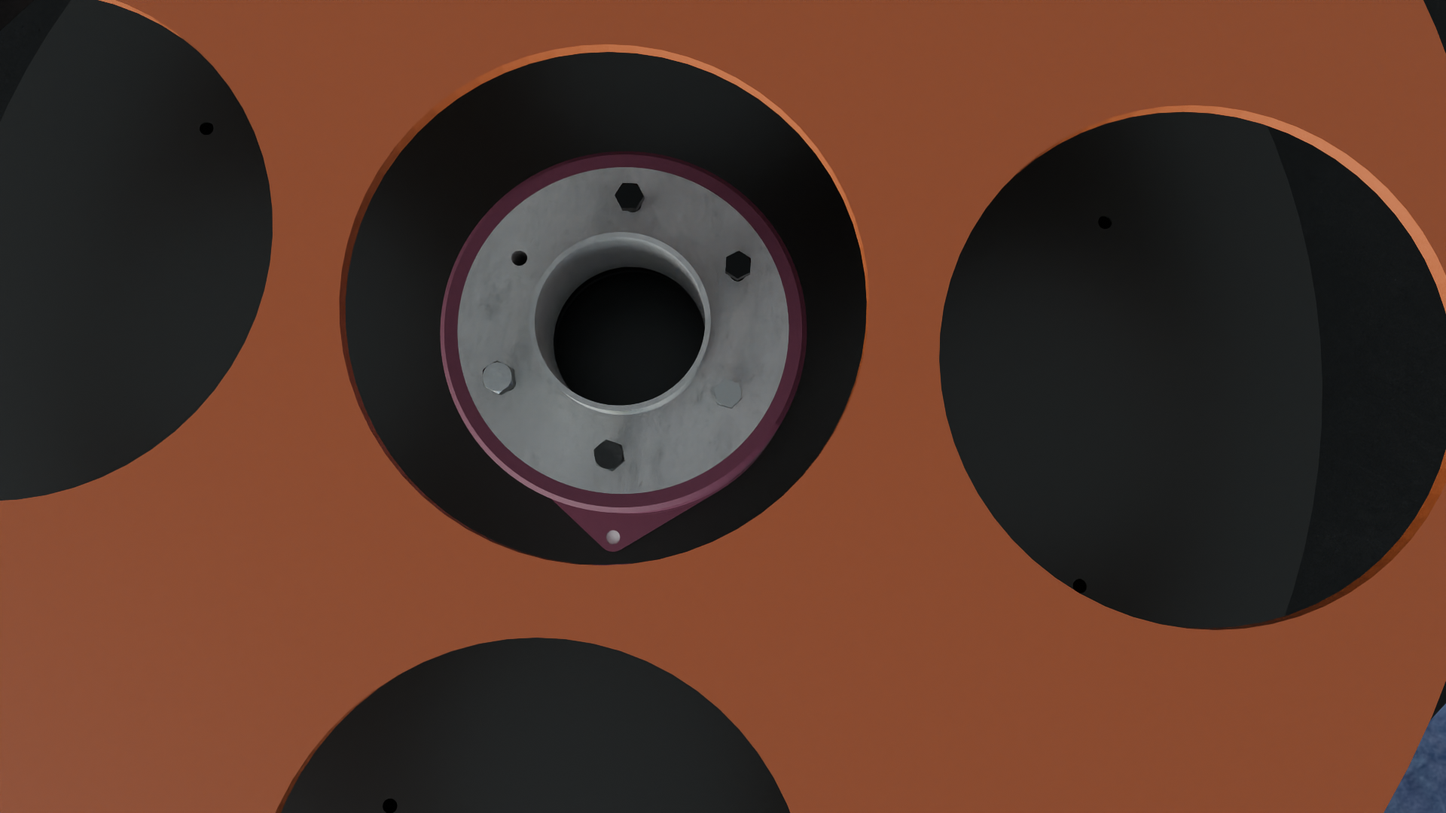bolt: (483, 361, 513, 394), (593, 440, 624, 471), (714, 379, 743, 408), (615, 183, 644, 209), (725, 251, 751, 279)
